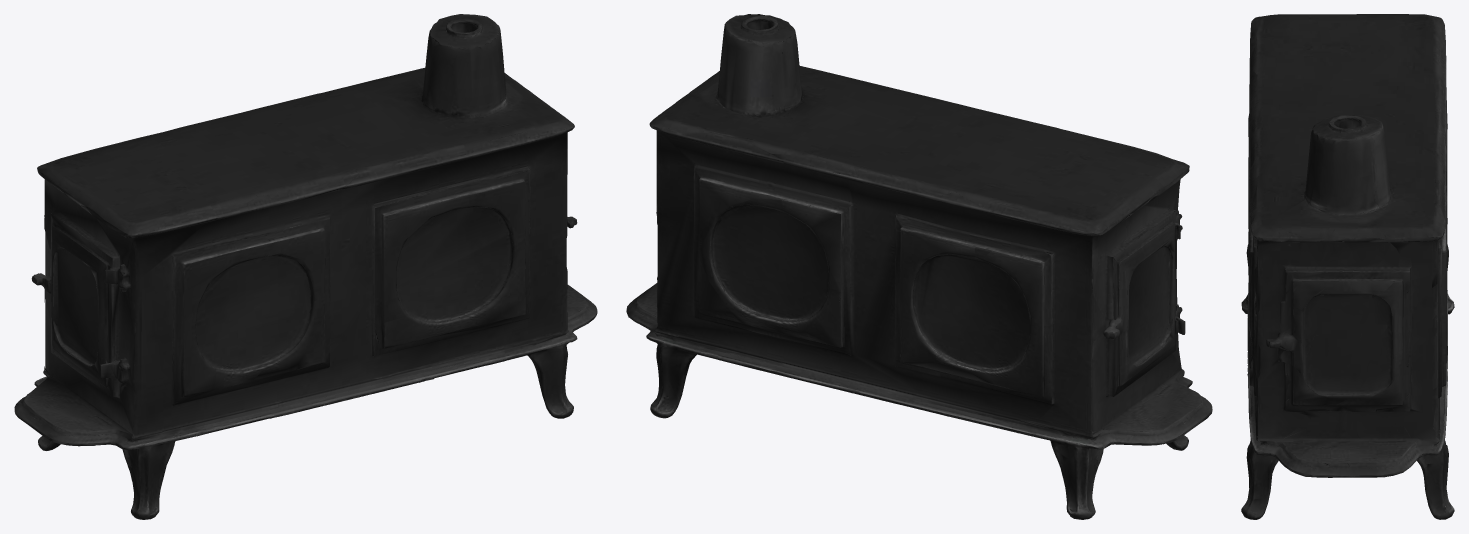
The model's file is iron-stove.glb.
The picture shows the model from 3 angles, left to right: view 1: azimuth 30°, elevation 25°; view 2: azimuth 150°, elevation 25°; view 3: azimuth 270°, elevation 25°; orthographic projection.
Parts seen in each view (by area): view 1: Mesh_0; view 2: Mesh_0; view 3: Mesh_0.
Part boxes in pixels (box(x1,y1,x2,y2)): Mesh_0: box(14, 14, 597, 519); Mesh_0: box(626, 14, 1212, 519); Mesh_0: box(1241, 14, 1454, 519).
Bounding box in the file's own units: 1.9 × 1.22 × 0.6365.
Materials: 1 (1 with a texture image).
